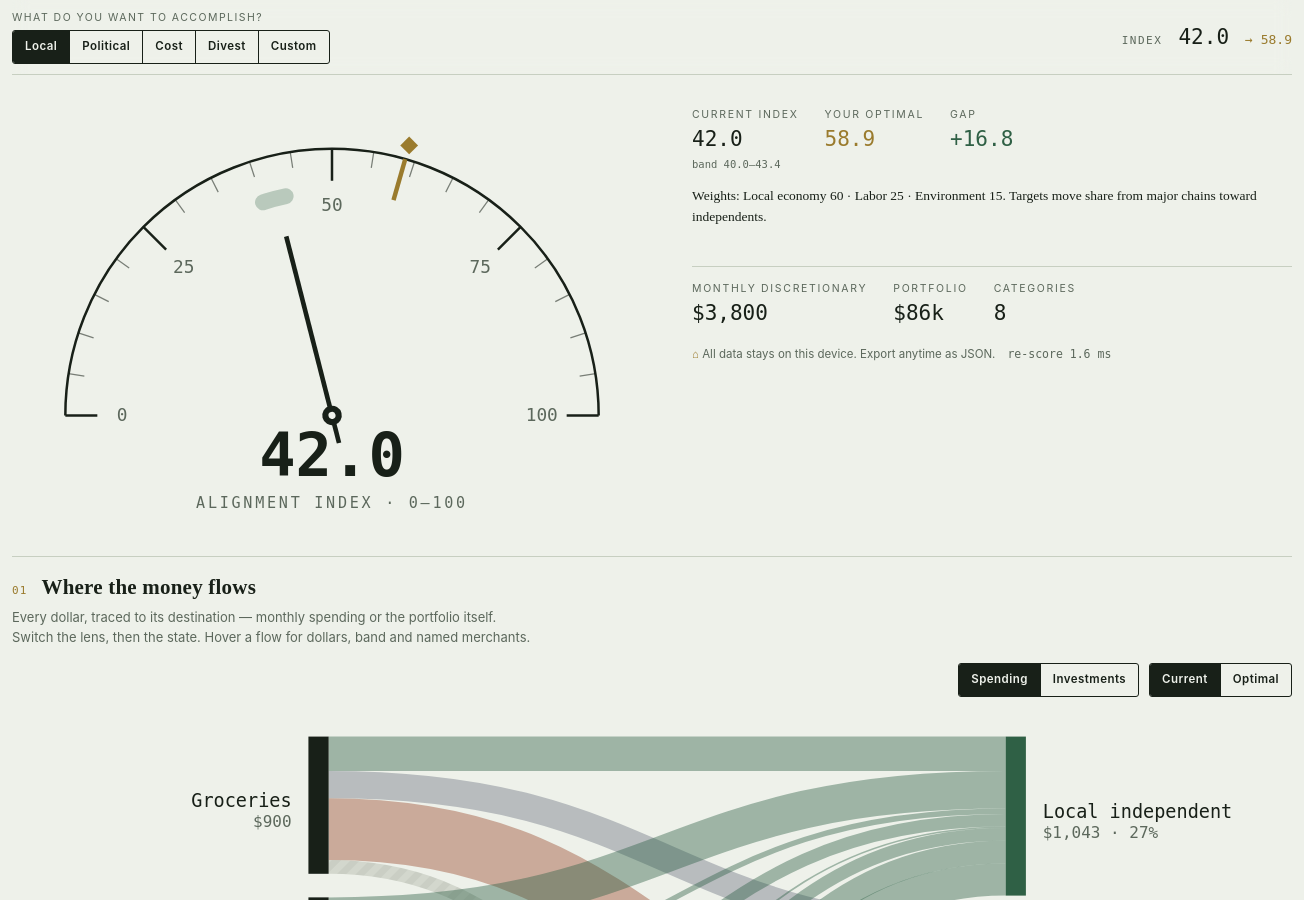
Dashboard › sankey: lens and state toggles swap the active layout, legend, and disclaimer
This screenshot has width=1304, height=900.
Click the radio button labelled "Optimal": coordinates (1256, 680) x1=1221 y1=664 x2=1291 y2=696
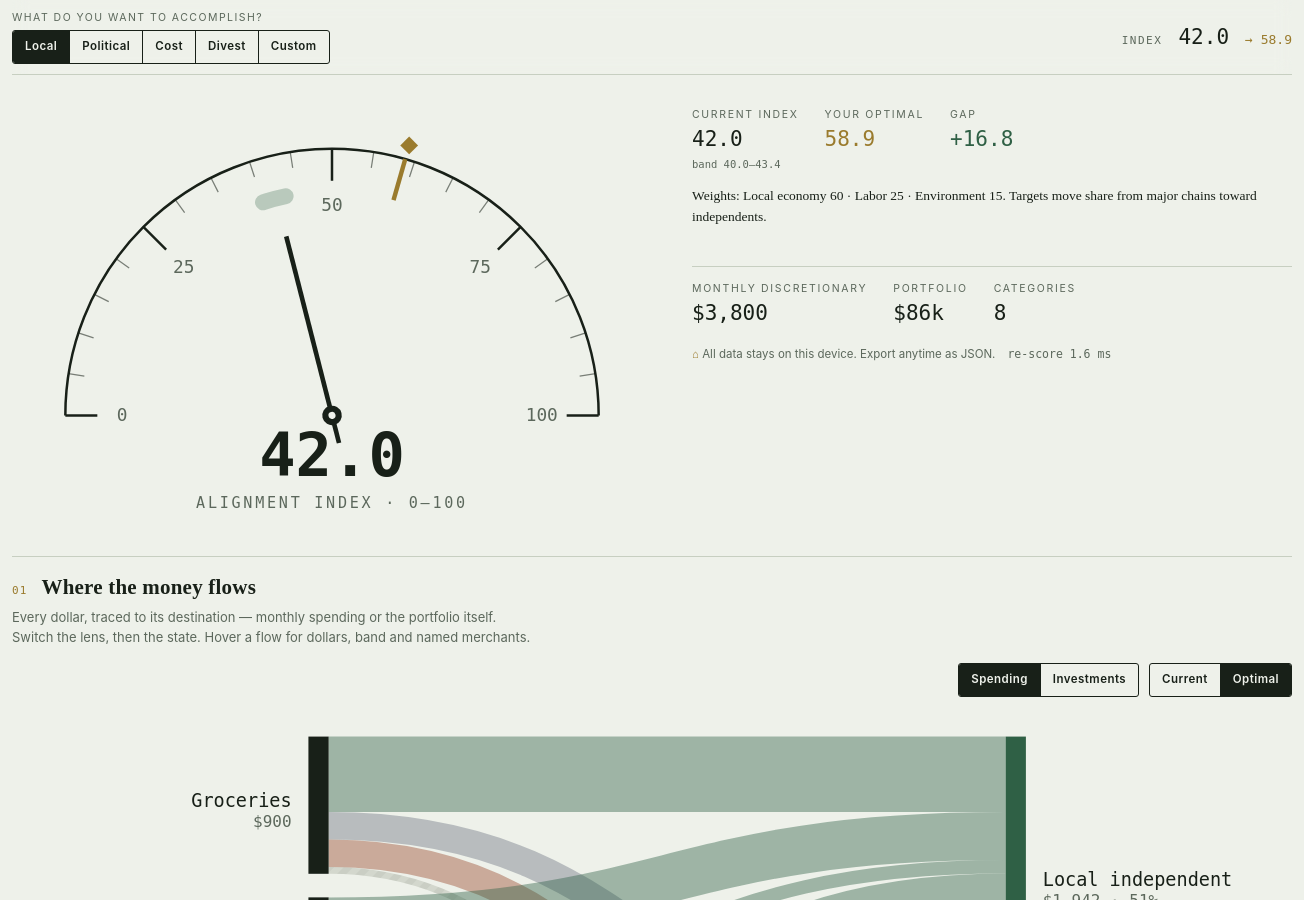
Expected: the text "Educational scenarios, not financial advice" is not shown
Click the radio button labelled "Investments": coordinates (1089, 680) x1=1041 y1=664 x2=1138 y2=696
(page scrolled)
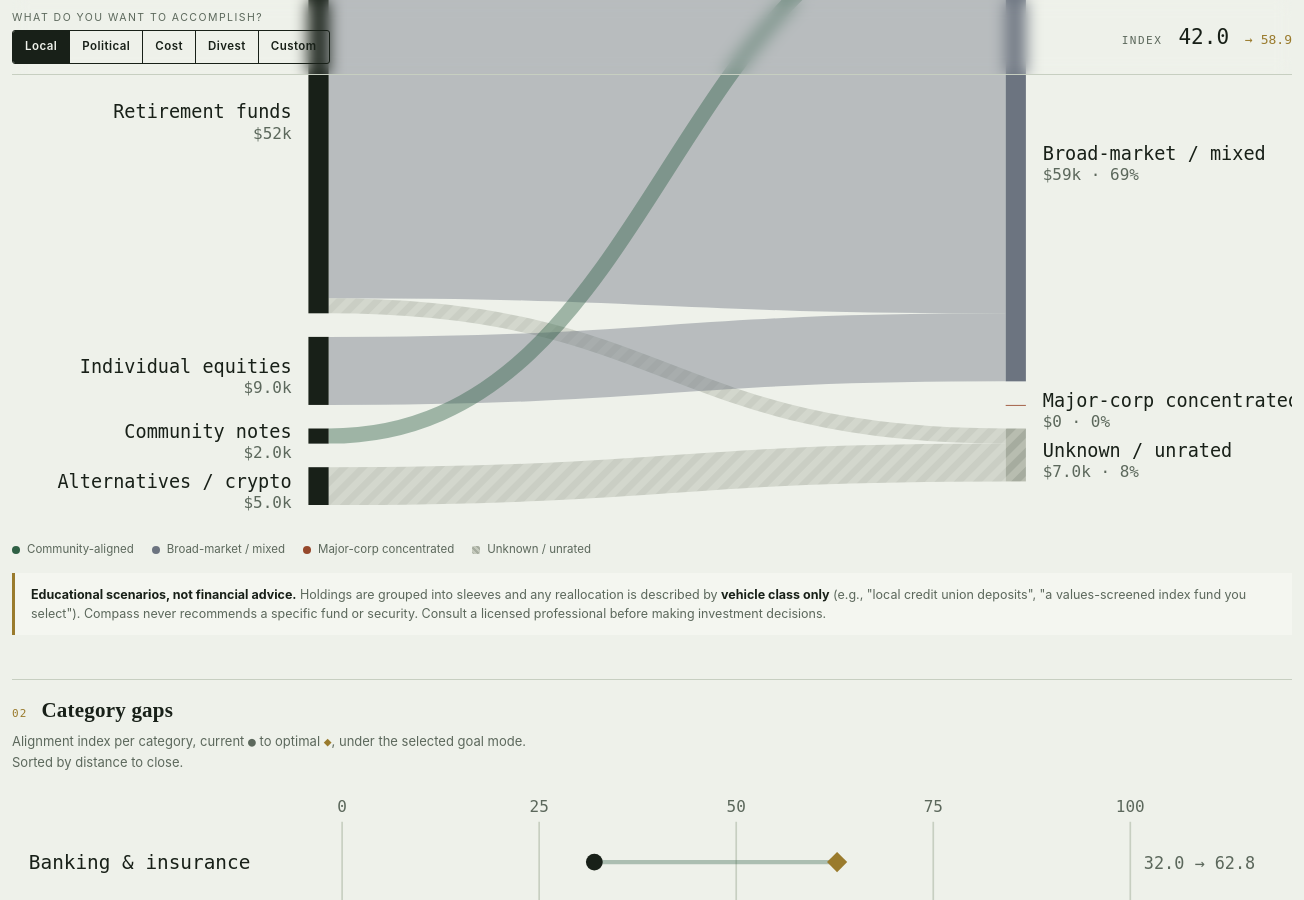
Expected: the text "Educational scenarios, not financial advice." is shown, x1=31 y1=586 x2=296 y2=602
